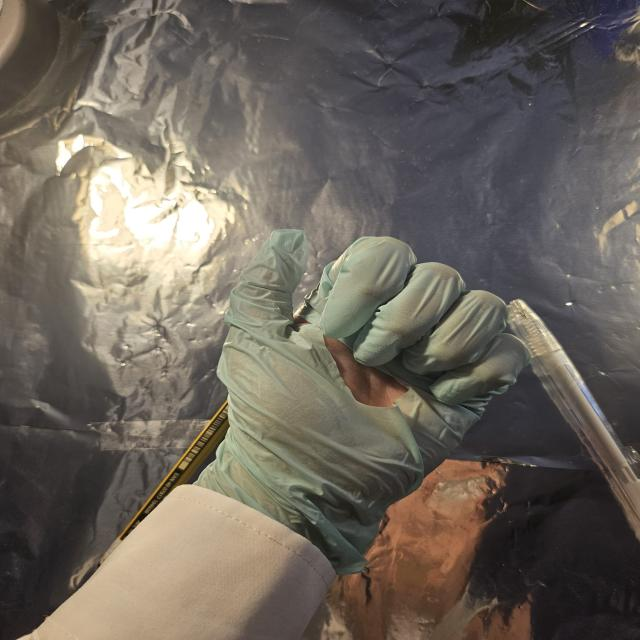gloves_damaged: (187, 225, 531, 574)
